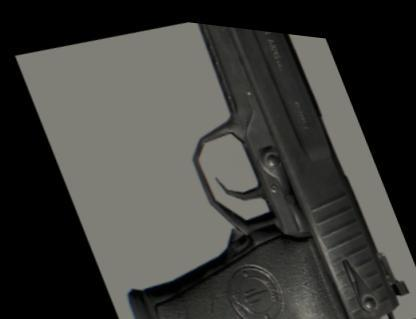pistol: (22, 2, 415, 317)
